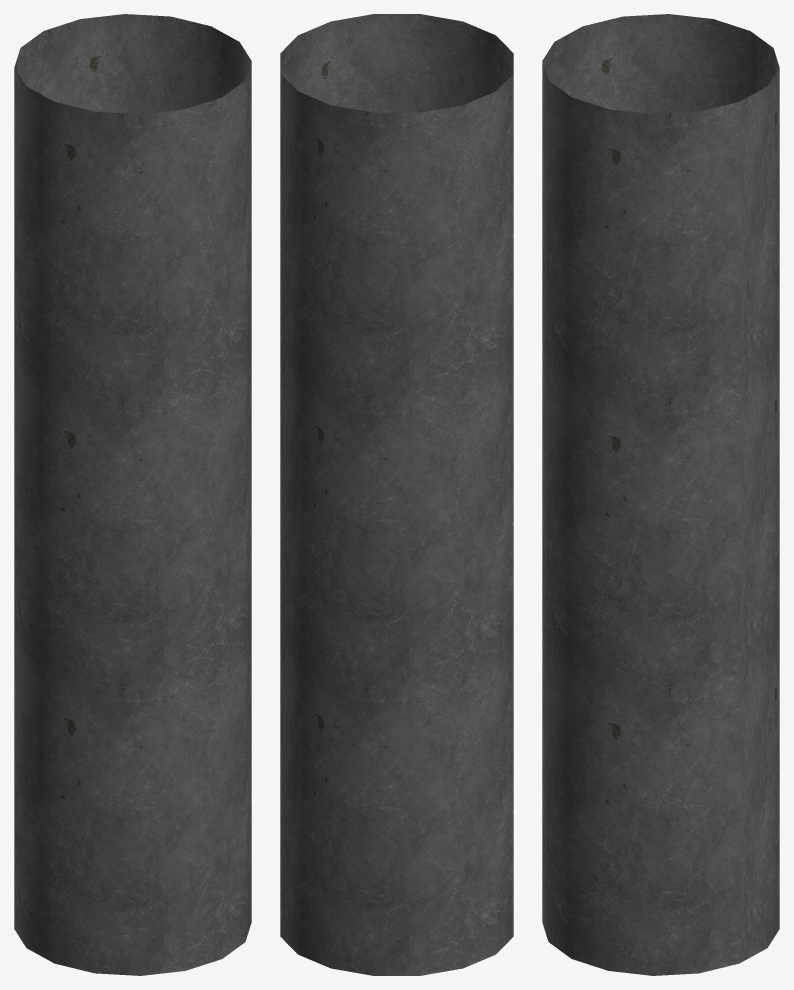
The model's file is col_04.obj.
The picture shows the model from 3 angles, left to right: view 1: azimuth 30°, elevation 25°; view 2: azimuth 150°, elevation 25°; view 3: azimuth 270°, elevation 25°; orthographic projection.
Parts seen in each view (by area): view 1: pCylinder2; view 2: pCylinder2; view 3: pCylinder2.
Part boxes in pixels (x1,y1,x2,y2): pCylinder2: (14,14,251,975); pCylinder2: (280,14,513,975); pCylinder2: (542,14,779,975).
Size of the model in its own units: 99.78 by 400 by 99.78.
1 material, 1 textured.
